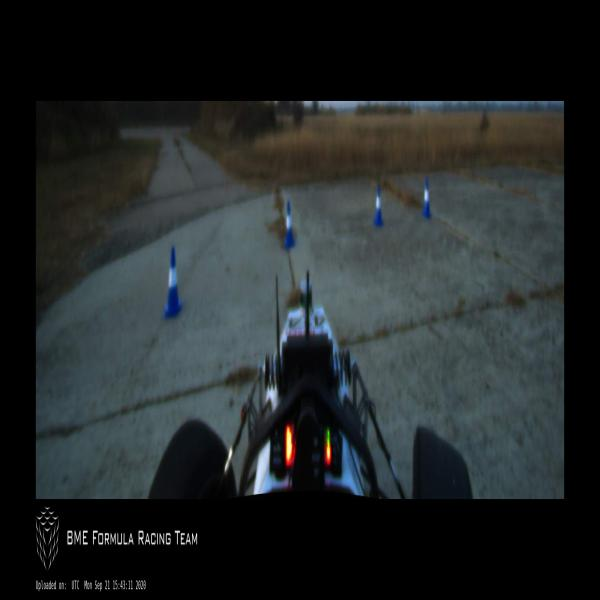blue_cone: (162, 246, 182, 321), (283, 203, 295, 250), (374, 185, 384, 227), (422, 178, 432, 219)
